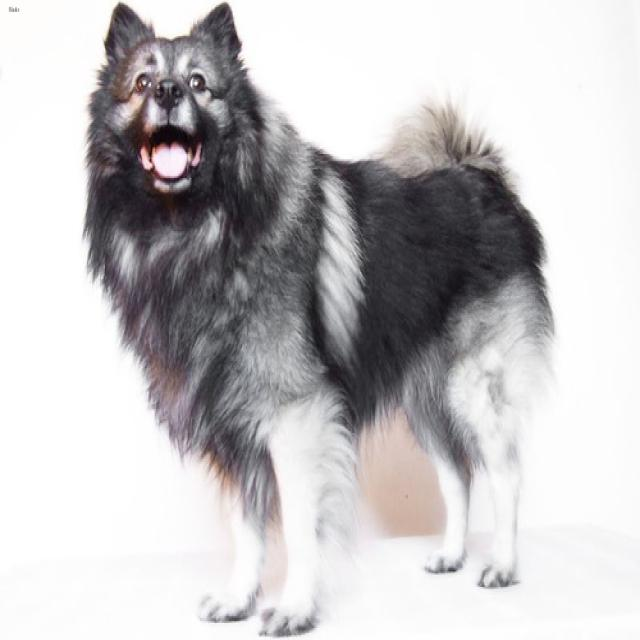dog-keeshond: (74, 2, 561, 637)
